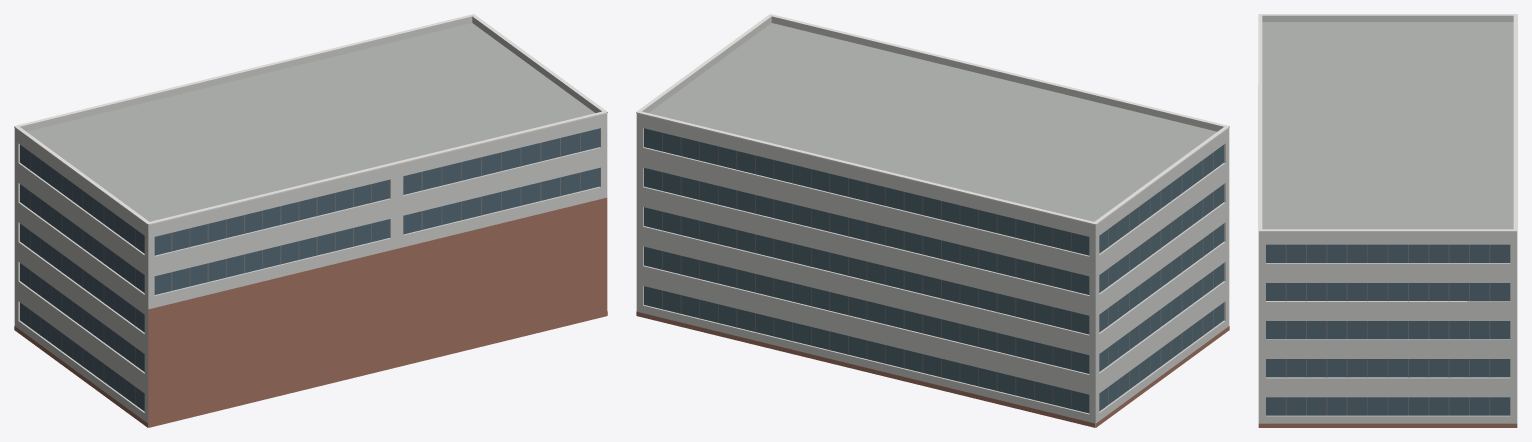
The picture shows the model from 3 angles, left to right: view 1: azimuth 30°, elevation 25°; view 2: azimuth 150°, elevation 25°; view 3: azimuth 270°, elevation 25°; orthographic projection. The views are drawn at different scales.
Parts seen in each view (by area): view 1: ricciAnnex__base, ricciAnnex__roof, ricciAnnex__wall, ricciAnnex__glass, ricciAnnex__parapet, ricciAnnex__trim, ricciAnnex__frame; view 2: ricciAnnex__wall, ricciAnnex__glass, ricciAnnex__roof, ricciAnnex__parapet, ricciAnnex__frame, ricciAnnex__trim, ricciAnnex__base; view 3: ricciAnnex__roof, ricciAnnex__wall, ricciAnnex__glass, ricciAnnex__trim, ricciAnnex__parapet, ricciAnnex__frame, ricciAnnex__base.
Boxes of the visible parts, box(x1,y1,x2,y2) form: ricciAnnex__base: box(14, 197, 607, 427); ricciAnnex__roof: box(27, 23, 595, 221); ricciAnnex__wall: box(14, 119, 607, 427); ricciAnnex__glass: box(20, 128, 599, 411); ricciAnnex__parapet: box(14, 16, 607, 230); ricciAnnex__trim: box(14, 14, 607, 225); ricciAnnex__frame: box(30, 133, 580, 405); ricciAnnex__wall: box(636, 118, 1229, 427); ricciAnnex__glass: box(644, 128, 1223, 413); ricciAnnex__roof: box(649, 23, 1216, 221); ricciAnnex__parapet: box(636, 16, 1229, 230); ricciAnnex__frame: box(662, 132, 1213, 409); ricciAnnex__trim: box(636, 14, 1229, 225); ricciAnnex__base: box(636, 311, 1229, 427); ricciAnnex__roof: box(1262, 22, 1513, 229); ricciAnnex__wall: box(1258, 237, 1517, 423); ricciAnnex__glass: box(1266, 244, 1510, 415); ricciAnnex__trim: box(1258, 14, 1517, 231); ricciAnnex__parapet: box(1258, 15, 1517, 236); ricciAnnex__frame: box(1285, 244, 1490, 415); ricciAnnex__base: box(1258, 423, 1517, 427).
Bounding box in the file's own units: 43.95 × 18.6 × 22.23.
